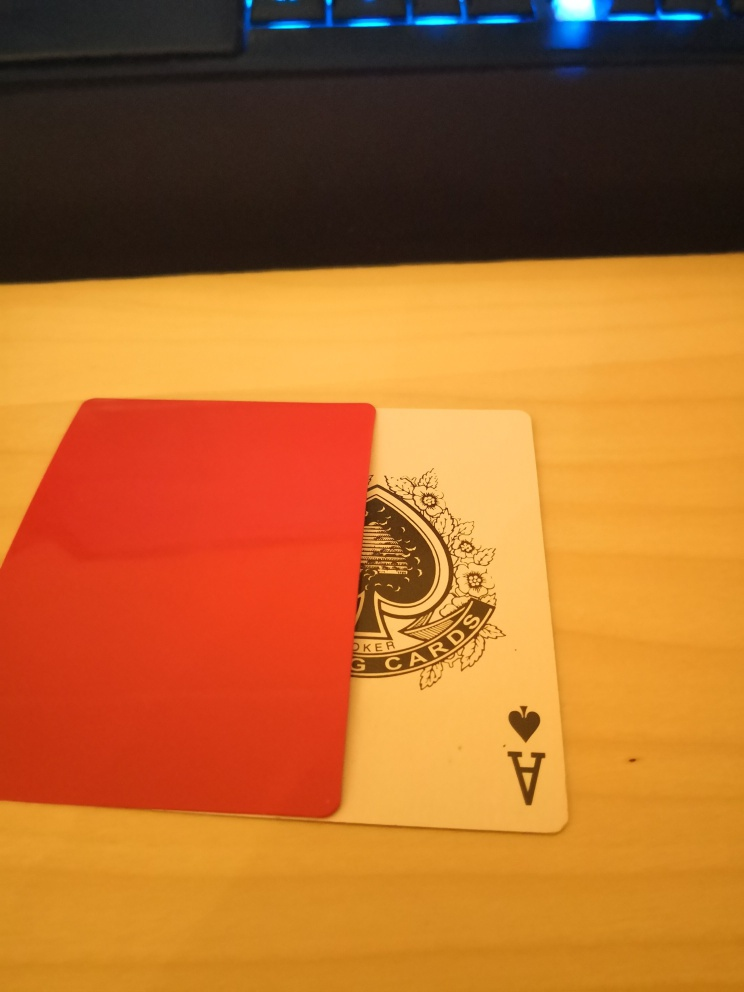ace: (326, 409, 570, 836)
